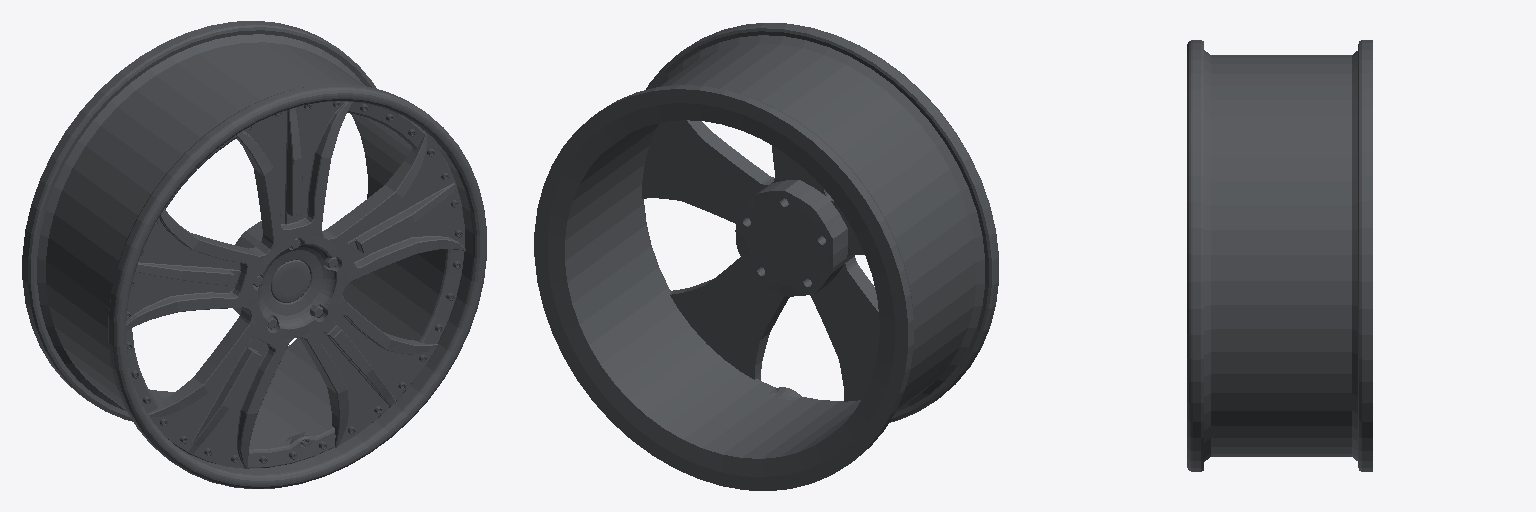
File: wheel1.obj
3 views of the same model, side by side, from view 1: azimuth 30°, elevation 25°; view 2: azimuth 150°, elevation 25°; view 3: azimuth 270°, elevation 25° (orthographic).
Parts seen in each view (by area): view 1: rim_rim_Metal_-_Aluminium, rim_center_rim_center_Metal_-_Aluminium, Small_Bolts_Small_Bolts_Bolts; view 2: rim_rim_Metal_-_Aluminium, rim_center_rim_center_Metal_-_Aluminium; view 3: rim_rim_Metal_-_Aluminium.
Part boxes in pixels (x1,y1,x2,y2): rim_rim_Metal_-_Aluminium: (22,21,486,488); rim_center_rim_center_Metal_-_Aluminium: (126,101,465,468); Small_Bolts_Small_Bolts_Bolts: (126,101,462,463); rim_rim_Metal_-_Aluminium: (534,23,998,490); rim_center_rim_center_Metal_-_Aluminium: (642,120,879,401); rim_rim_Metal_-_Aluminium: (1187,40,1372,471).
Size of the model in its own units: 2.7 by 2.7 by 1.17.